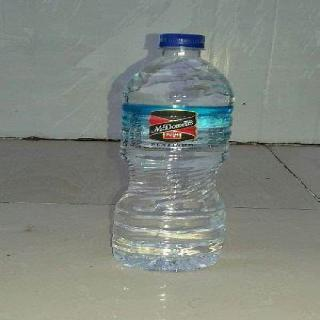Anorganik: (107, 30, 233, 276)
